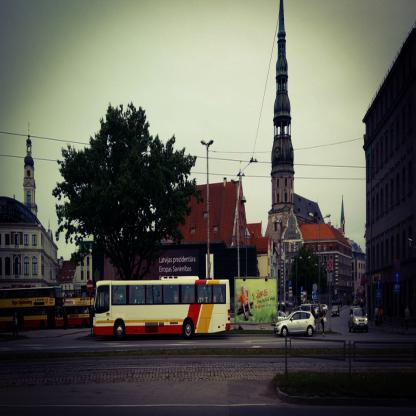Bus: (92, 281, 232, 343), (0, 286, 64, 329), (62, 290, 94, 326)
